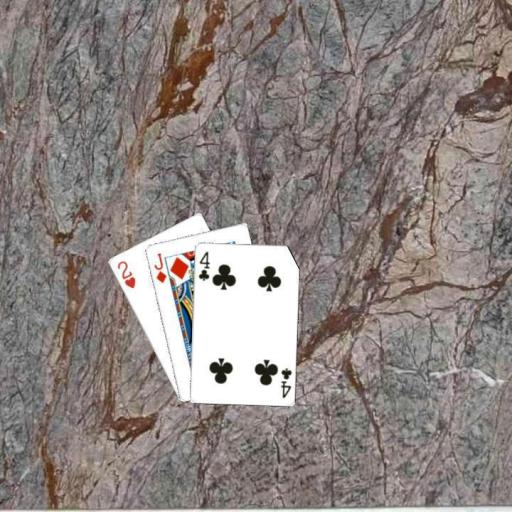card-corner: (114, 258, 136, 290), (151, 250, 168, 284), (277, 365, 293, 399), (196, 248, 210, 282)
